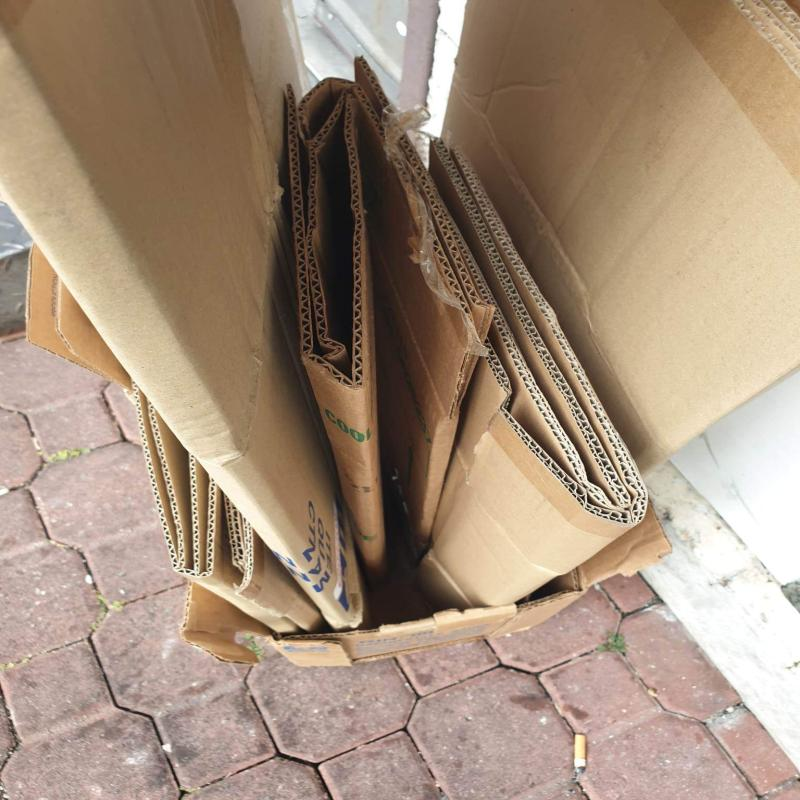cardboard: (441, 0, 800, 471), (409, 132, 649, 612), (285, 58, 497, 582), (133, 392, 323, 635), (24, 247, 137, 397)
